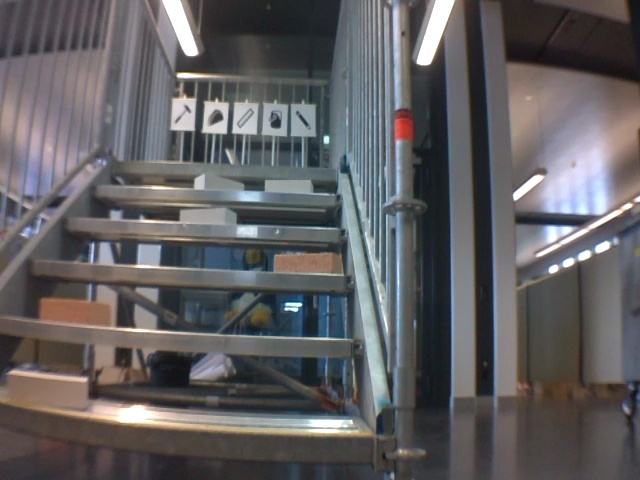brick: (8, 371, 88, 409), (40, 299, 110, 325), (275, 252, 340, 273), (180, 208, 236, 225), (194, 173, 244, 191), (267, 180, 314, 192)
bucket: (266, 107, 283, 132)
edge: (1, 403, 370, 462), (1, 316, 364, 356), (28, 260, 353, 289), (65, 217, 345, 240), (93, 186, 341, 205), (113, 161, 335, 179)
hammer: (172, 102, 191, 128)
pencil: (292, 107, 313, 133)
ruler: (236, 105, 255, 131)
stairs: (1, 1, 419, 476)
steps: (4, 156, 375, 467)
taco: (206, 105, 225, 130)
